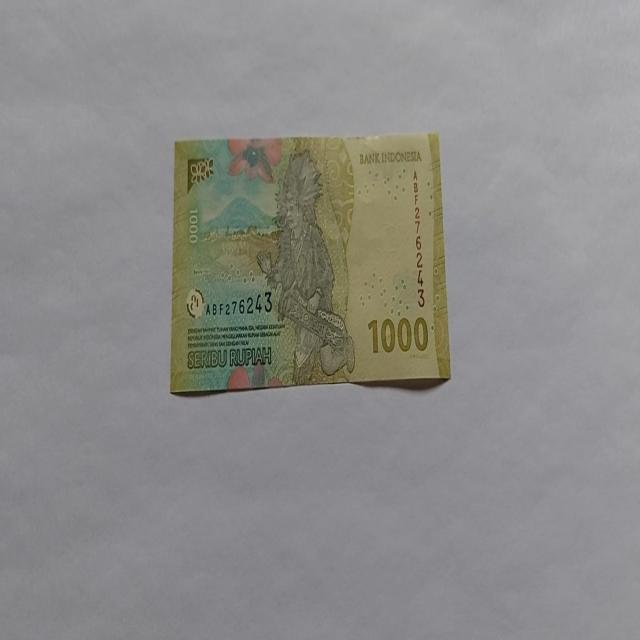seribu rupiah kertas: (169, 130, 451, 394)
